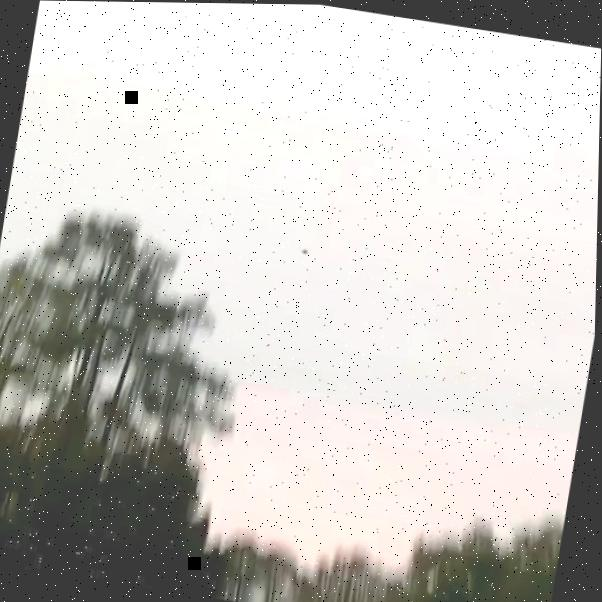GolfBall: (302, 247, 310, 254)
